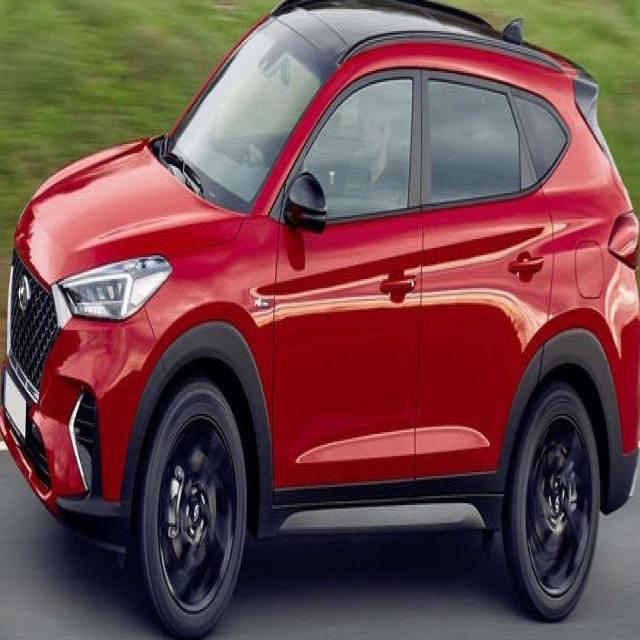red: (2, 6, 640, 600)
